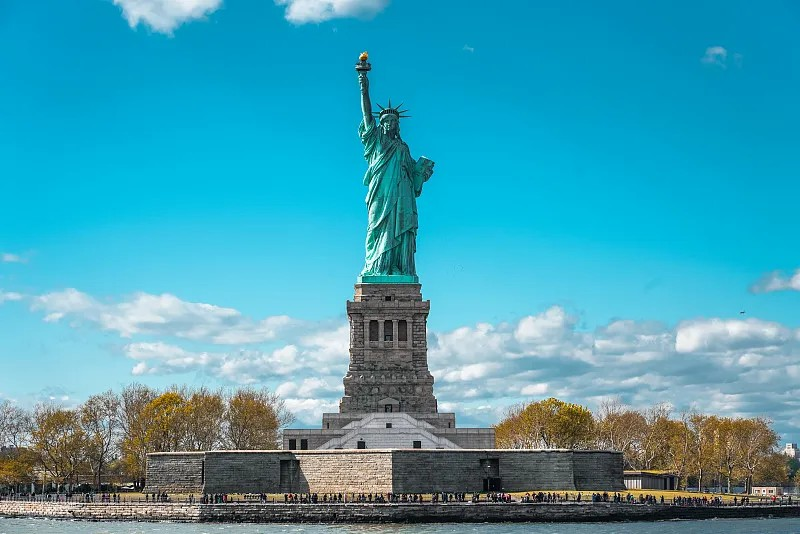SL: (339, 50, 438, 412)
